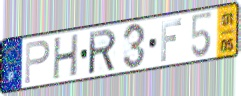3: (122, 22, 147, 71)
5: (190, 9, 214, 60)
F: (159, 18, 183, 64)
H: (51, 32, 80, 83)
P: (24, 39, 52, 86)
R: (87, 27, 118, 76)
